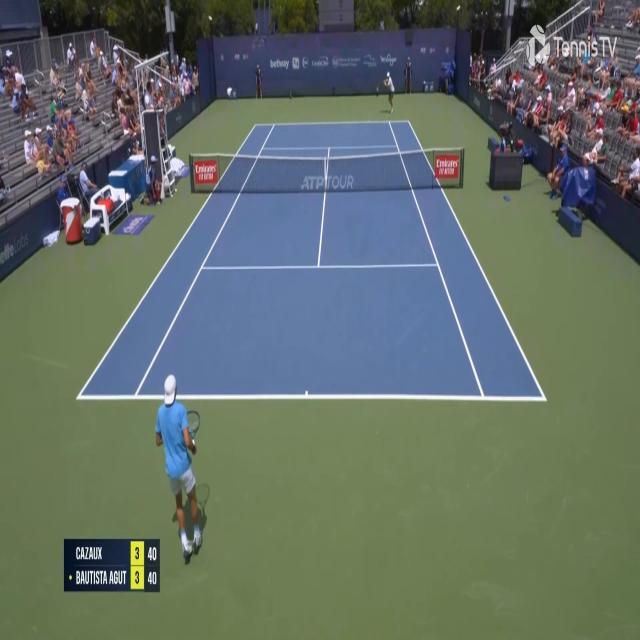tennis-player: (154, 368, 212, 564), (377, 70, 395, 113)
